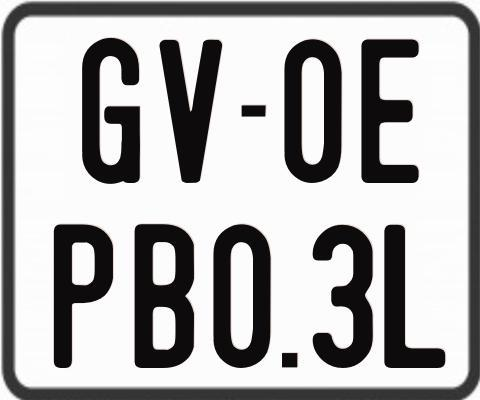0: (283, 39, 342, 186), (213, 223, 271, 368)
3: (312, 223, 377, 367)
B: (135, 221, 197, 366)
E: (361, 39, 423, 186)
G: (79, 35, 137, 184)
L: (382, 222, 445, 369)
P: (51, 222, 116, 370)
V: (157, 40, 224, 189)
